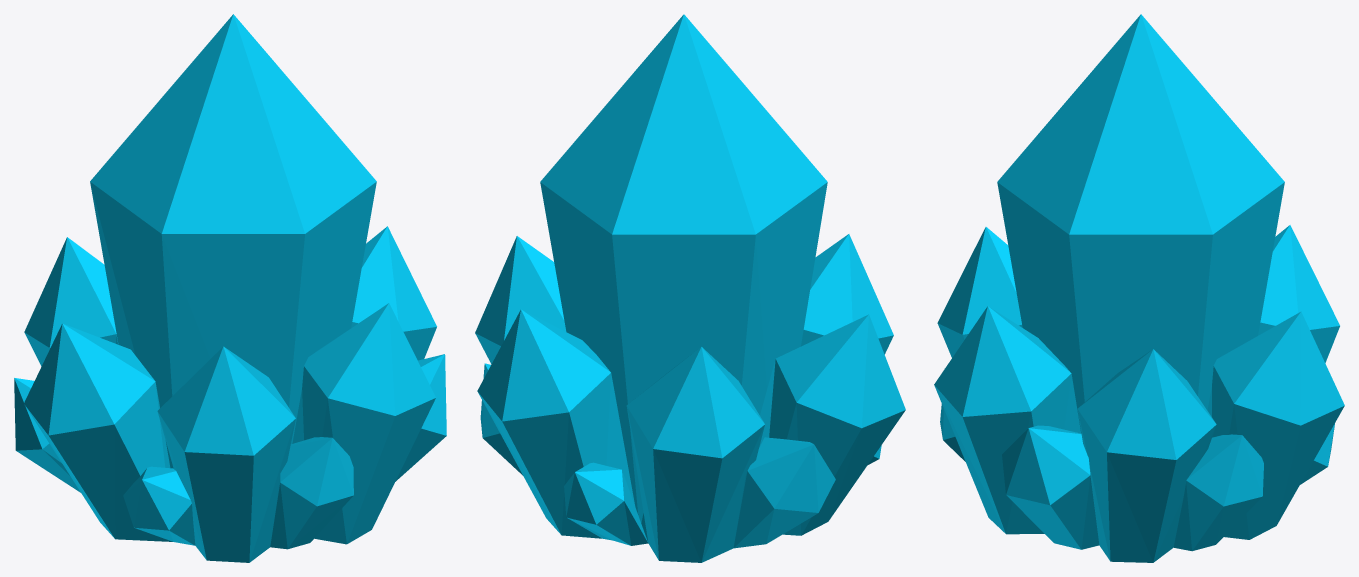
Rendered from crystal_light_blue.obj.
3 renders of one model, left to right at view 1: azimuth 30°, elevation 25°; view 2: azimuth 150°, elevation 25°; view 3: azimuth 270°, elevation 25°, orthographic.
Parts seen in each view (by area): view 1: Crystal_Cube; view 2: Crystal_Cube; view 3: Crystal_Cube.
Part boxes in pixels (box(x1,y1,x2,y2)): Crystal_Cube: box(14, 14, 446, 562); Crystal_Cube: box(475, 14, 905, 562); Crystal_Cube: box(934, 14, 1344, 562).
Bounding box in the file's own units: 0.8345 × 0.9795 × 0.7515.
